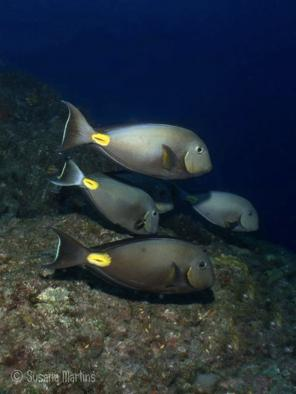Acanthuridae -Surgeonfishes-: (57, 98, 213, 179), (44, 224, 216, 294), (54, 152, 159, 237), (168, 182, 259, 231)
